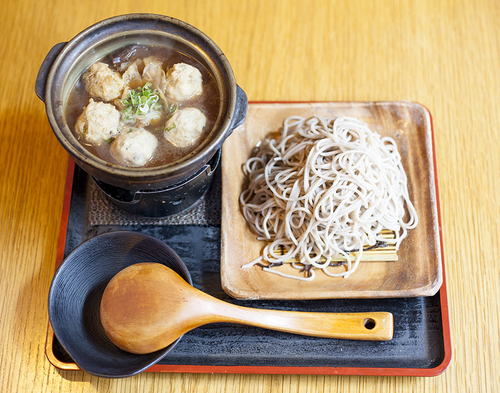Soba: (227, 111, 424, 282)
